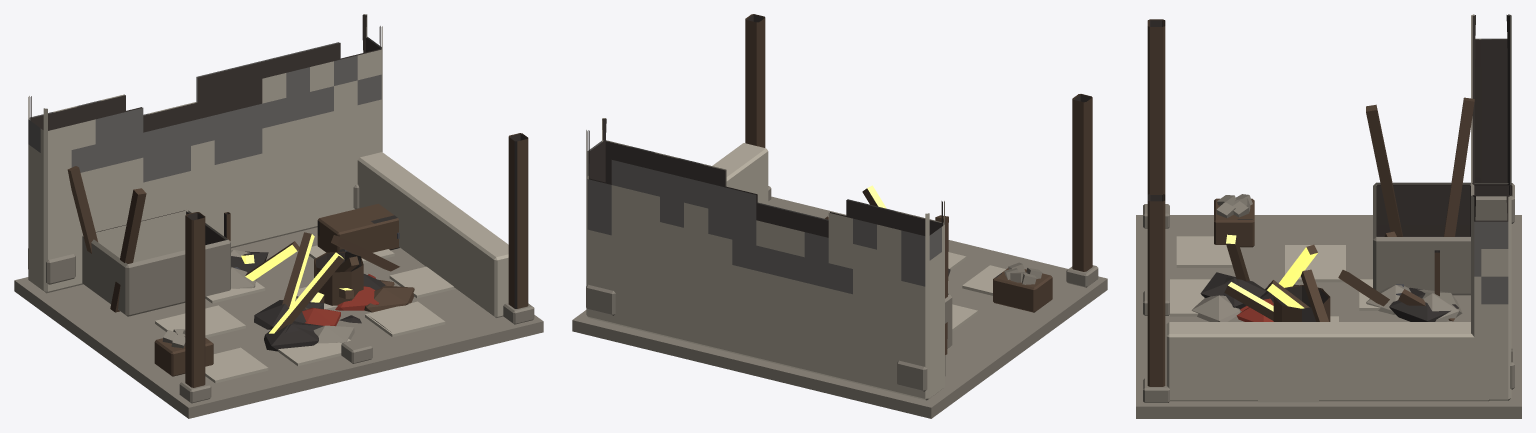
The model's file is Schmiede_Ruine.fbx.
3 views of the same model, side by side, from view 1: azimuth 30°, elevation 25°; view 2: azimuth 150°, elevation 25°; view 3: azimuth 270°, elevation 25° (orthographic). The views are drawn at different scales.
Parts seen in each view (by area): view 1: Schmiede_Ruine; view 2: Schmiede_Ruine; view 3: Schmiede_Ruine.
Part boxes in pixels (x1,y1,x2,y2): Schmiede_Ruine: (14,14,543,418); Schmiede_Ruine: (572,14,1107,418); Schmiede_Ruine: (1136,14,1521,418).
Size of the model in its own units: 6.7 by 3.79 by 5.7.
